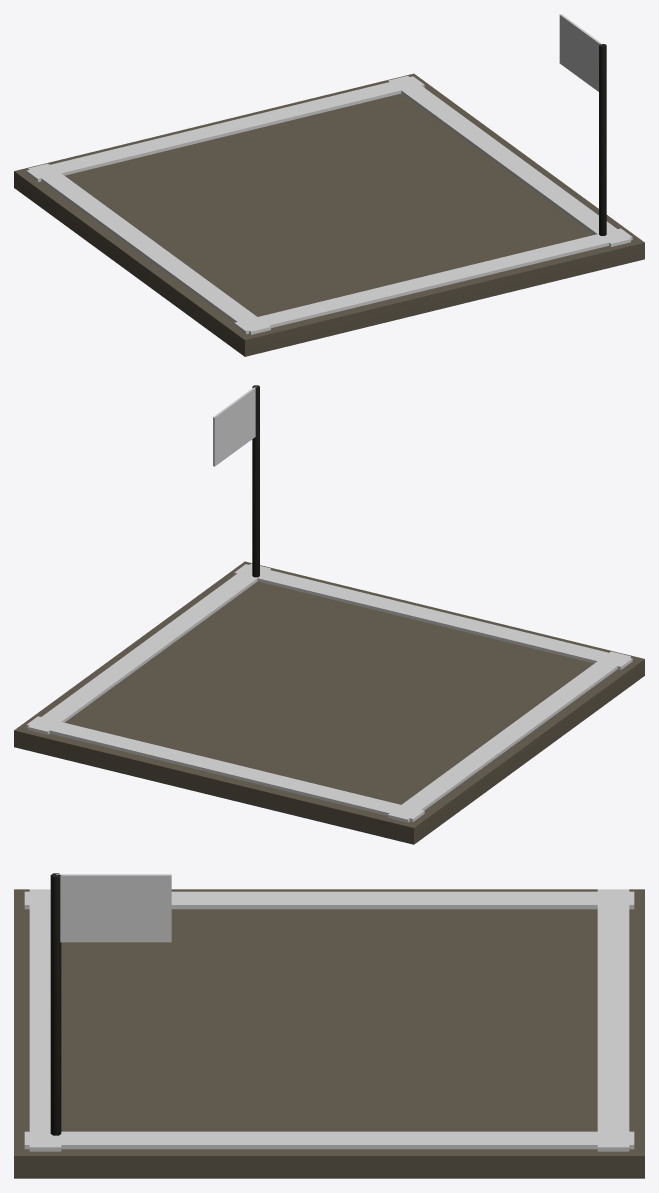
The model's file is m_barracks_c3850351.glb.
The picture shows the model from 3 angles, top to bottom: view 1: azimuth 30°, elevation 25°; view 2: azimuth 150°, elevation 25°; view 3: azimuth 270°, elevation 25°; orthographic projection. The views are drawn at different scales.
Parts seen in each view (by area): view 1: mesh; view 2: mesh; view 3: mesh.
Boxes of the visible parts, x1,y1,x2,y2 form: mesh: [14, 14, 644, 356]; mesh: [14, 385, 644, 844]; mesh: [14, 873, 644, 1178].
Size of the model in its own units: 60 by 30 by 60.
